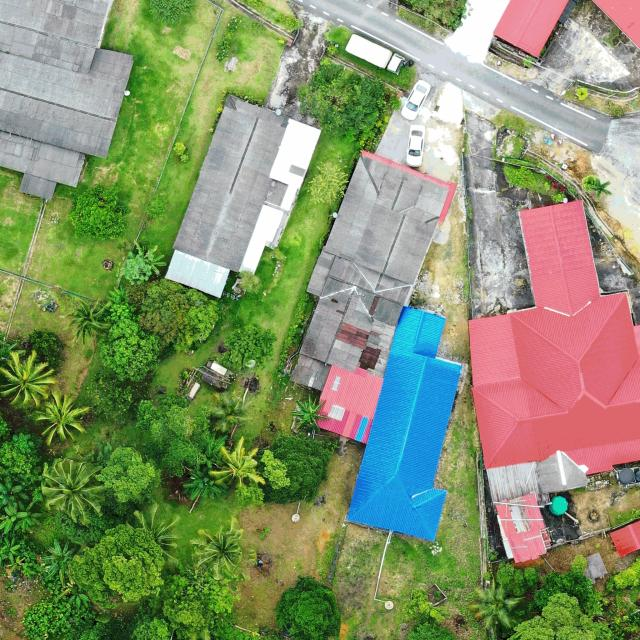0: (41, 458, 106, 519), (125, 504, 182, 570), (29, 388, 92, 447), (0, 350, 58, 410), (209, 436, 265, 495), (467, 576, 525, 632), (192, 522, 244, 575), (65, 296, 111, 348), (208, 388, 258, 434)
banana_tree2: (38, 536, 83, 586), (290, 392, 328, 436), (182, 466, 230, 500), (132, 240, 168, 276), (0, 501, 39, 534), (200, 432, 231, 468), (5, 554, 35, 580), (0, 481, 28, 508), (0, 536, 22, 564), (66, 585, 91, 609), (108, 286, 128, 304)
tree: (66, 523, 166, 612), (298, 61, 386, 146), (140, 277, 220, 356), (136, 394, 210, 478), (261, 429, 340, 505), (160, 560, 239, 629), (506, 591, 616, 640), (96, 304, 162, 382), (527, 554, 604, 614), (276, 574, 342, 640), (102, 444, 161, 504), (69, 183, 123, 239), (218, 322, 276, 374), (0, 428, 43, 481), (306, 161, 350, 208), (496, 560, 541, 600), (29, 329, 66, 369), (116, 251, 154, 285), (582, 174, 612, 198), (145, 194, 168, 222), (171, 142, 189, 162)
